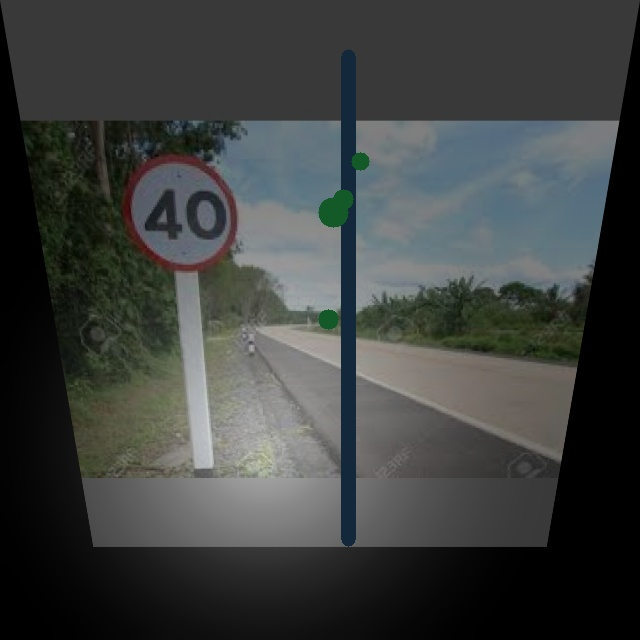Speed_Limit_40: (120, 147, 239, 270)
